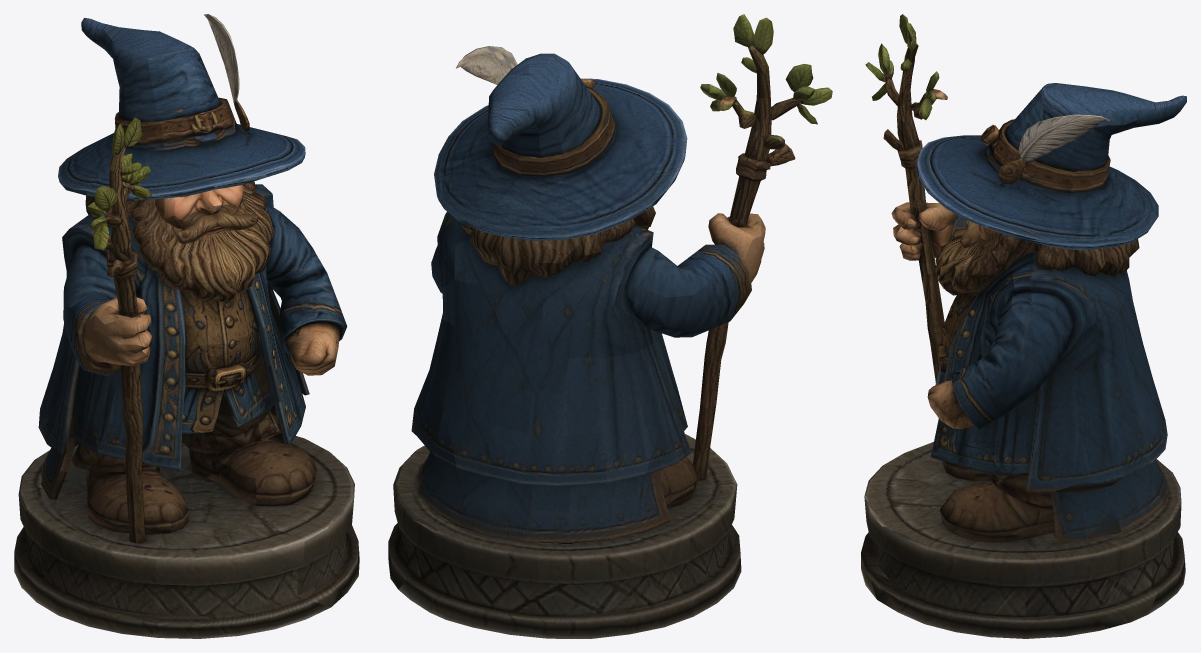
Rendered from tom.glb.
3 renders of one model, left to right at view 1: azimuth 30°, elevation 25°; view 2: azimuth 150°, elevation 25°; view 3: azimuth 270°, elevation 25°, orthographic. The views are drawn at different scales.
Visible parts, largest first — view 1: mesh_node; view 2: mesh_node; view 3: mesh_node.
Boxes of the visible parts, x1,y1,x2,y2 form: mesh_node: (14,14,359,638); mesh_node: (388,14,832,638); mesh_node: (861,14,1186,638).
Size of the model in its own units: 0.6621 by 1 by 0.5976.
Materials: 1 (1 with a texture image).
